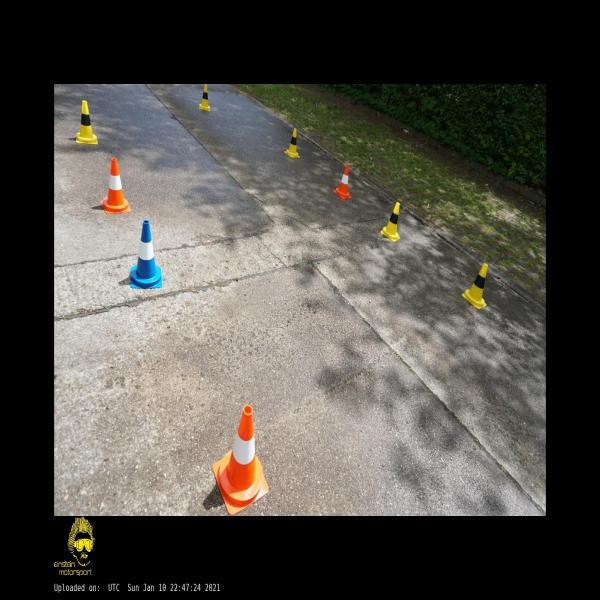blue_cone: (131, 220, 162, 288)
orange_cone: (212, 404, 269, 516), (100, 158, 130, 214), (334, 164, 352, 198)
yellow_cone: (461, 263, 488, 309), (76, 100, 97, 144), (381, 202, 400, 242), (284, 128, 300, 158), (199, 84, 210, 111)
